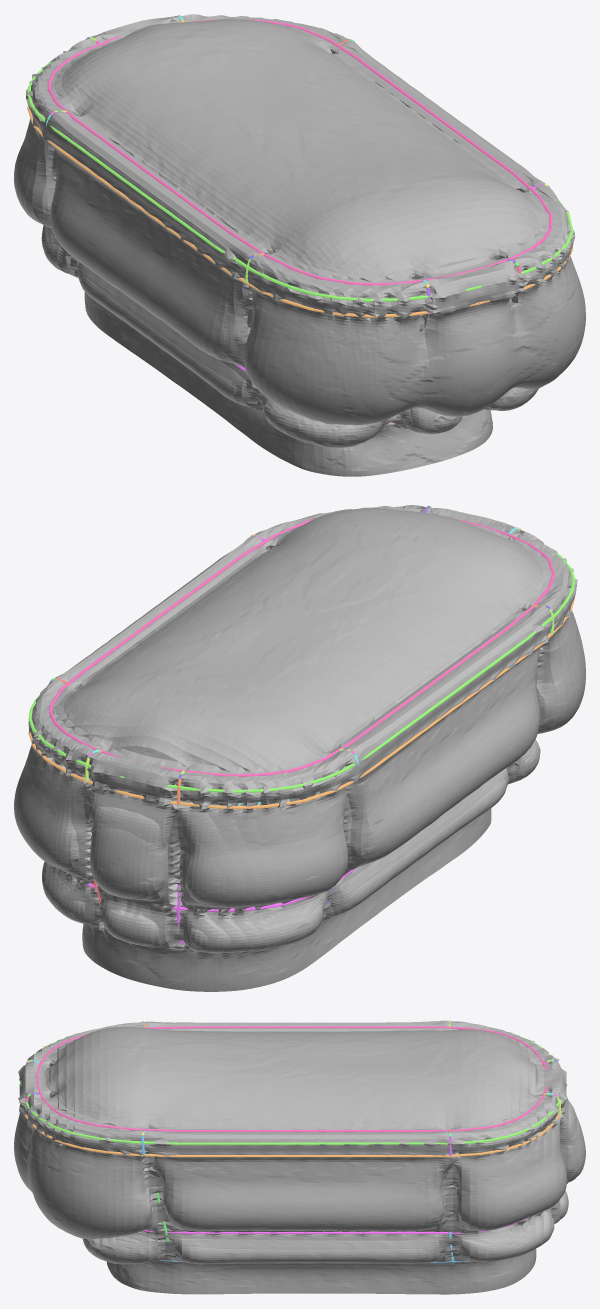
The model's file is flowrep_bathtub.gltf.
The picture shows the model from 3 angles, top to bottom: view 1: azimuth 30°, elevation 25°; view 2: azimuth 150°, elevation 25°; view 3: azimuth 270°, elevation 25°; orthographic projection. The views are drawn at different scales.
Bounding box in the file's own units: 0.481 × 0.3591 × 0.9076.
